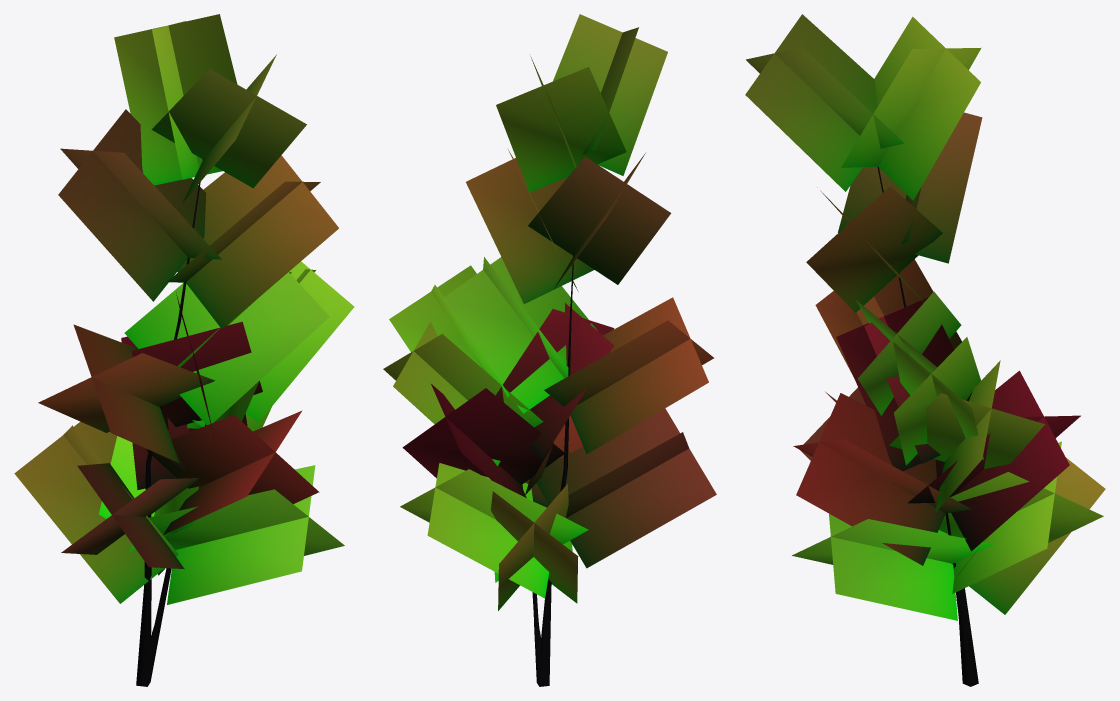
Rendered from SuperTree_10.fbx.
The picture shows the model from 3 angles, left to right: view 1: azimuth 30°, elevation 25°; view 2: azimuth 150°, elevation 25°; view 3: azimuth 270°, elevation 25°; orthographic projection. The views are drawn at different scales.
Parts seen in each view (by area): view 1: SuperTree_10; view 2: SuperTree_10; view 3: SuperTree_10.
Boxes of the visible parts, x1,y1,x2,y2 form: SuperTree_10: (14,14,354,686); SuperTree_10: (383,14,716,686); SuperTree_10: (745,14,1105,686).
Size of the model in its own units: 553 by 1125 by 558.
